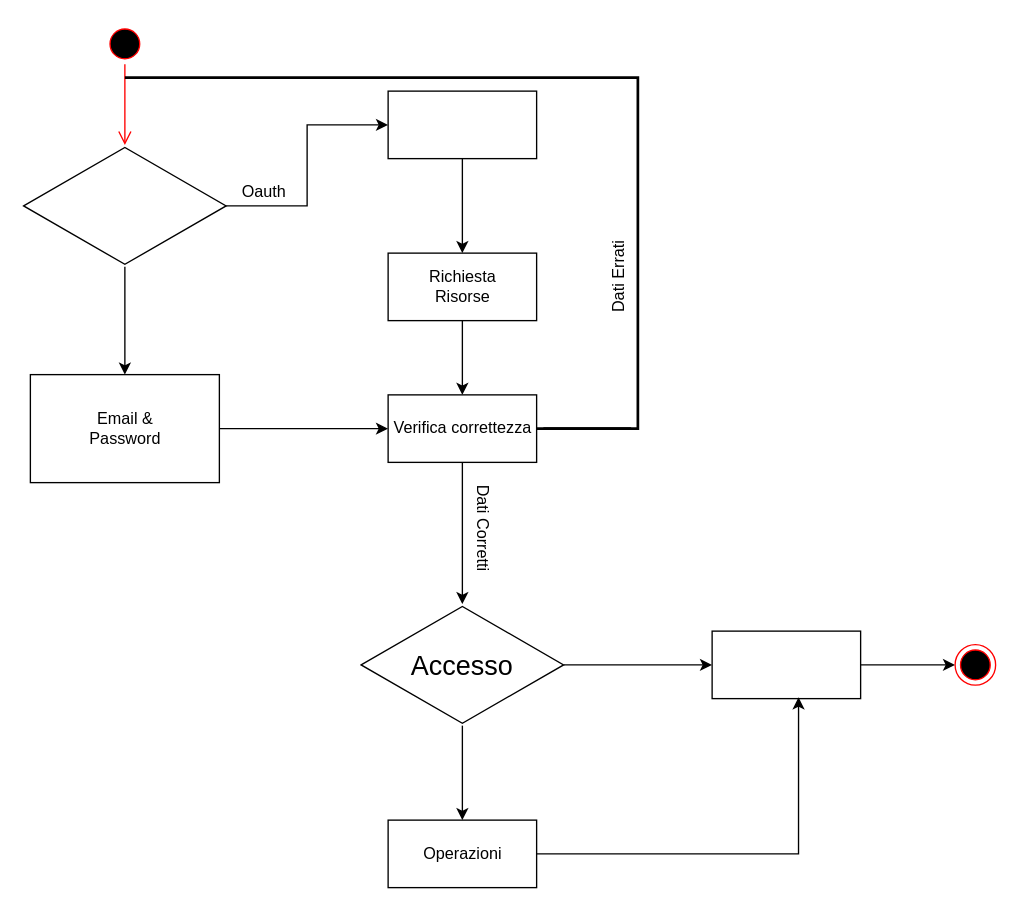
This 1019x911 diagram has some shape labels left out. The box of each missing label's shape, as (x1, y1, x2, y2) in pixels:
Richiesta Access Token: (387, 90, 537, 159)
SignIn: (22, 144, 226, 267)
SignOut: (711, 630, 861, 699)
